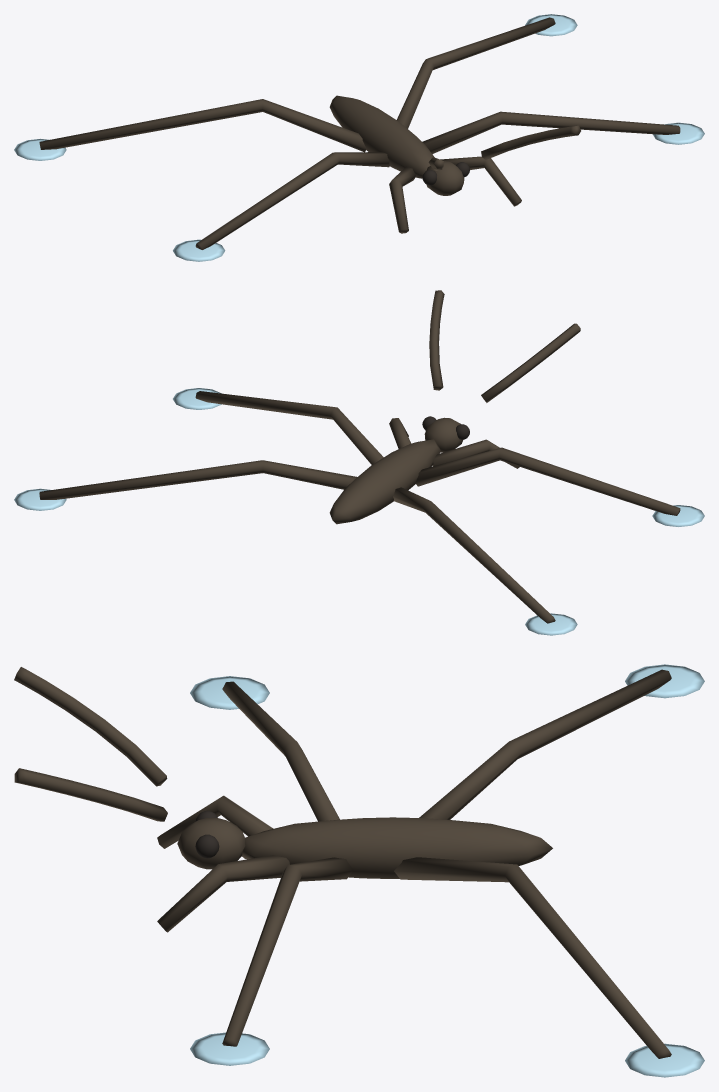
Rendered from bug-pond-skater.glb.
3 renders of one model, top to bottom at view 1: azimuth 30°, elevation 25°; view 2: azimuth 150°, elevation 25°; view 3: azimuth 270°, elevation 25°, orthographic. The views are drawn at different scales.
Parts seen in each view (by area): view 1: bug; view 2: bug; view 3: bug.
Part boxes in pixels (bbox=[...]): bug: bbox=[14, 14, 704, 261]; bug: bbox=[14, 290, 704, 635]; bug: bbox=[14, 664, 704, 1077].
Size of the model in its own units: 0.312 by 0.0605 by 0.2205.
